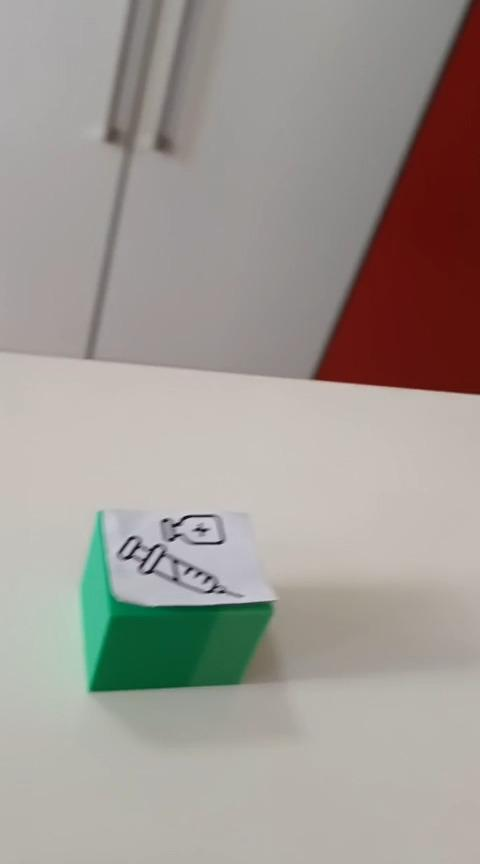antiseptic cream: (79, 506, 279, 693)
